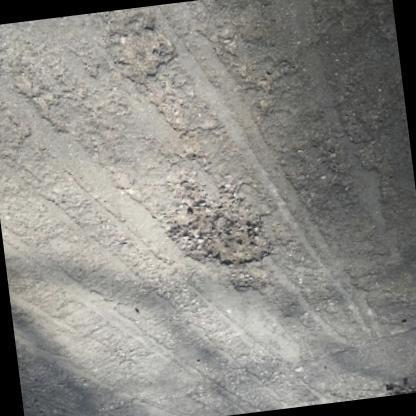pothole: (167, 204, 274, 263), (100, 13, 176, 86)
